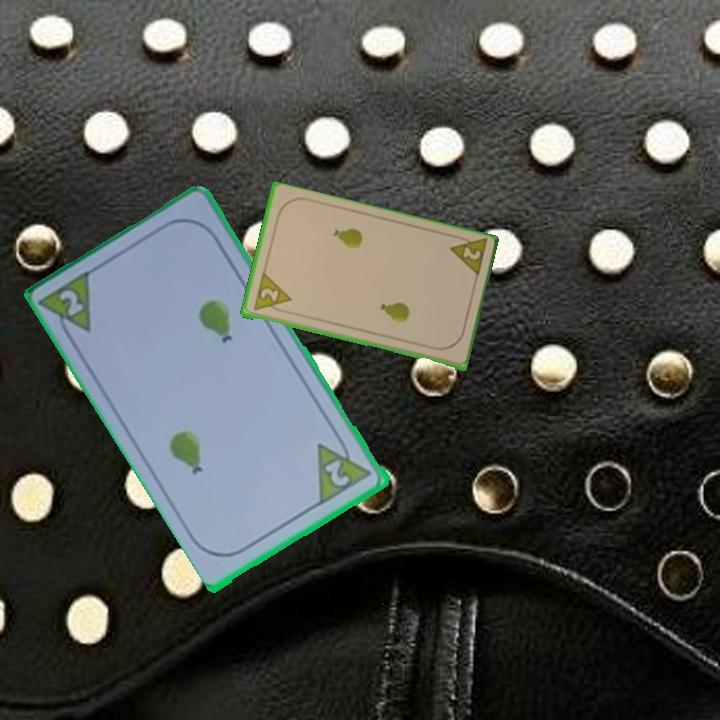2p: (313, 429, 376, 507), (445, 231, 490, 281), (249, 271, 294, 315), (56, 285, 88, 320)
